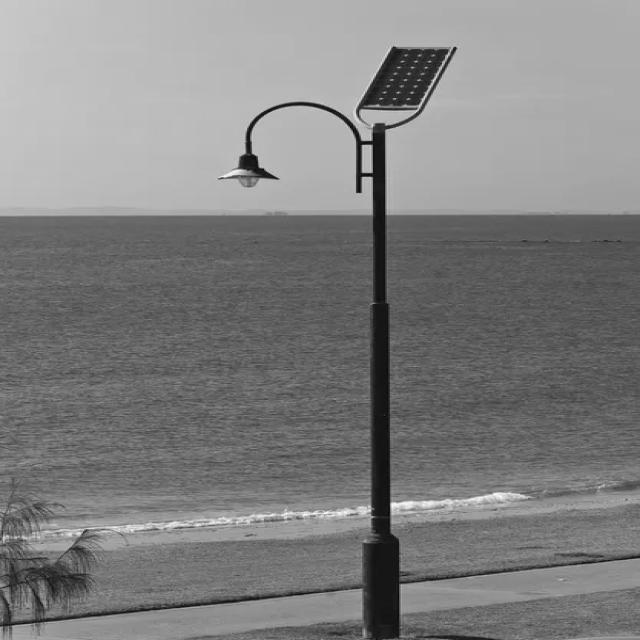Pole: (241, 47, 457, 639)
